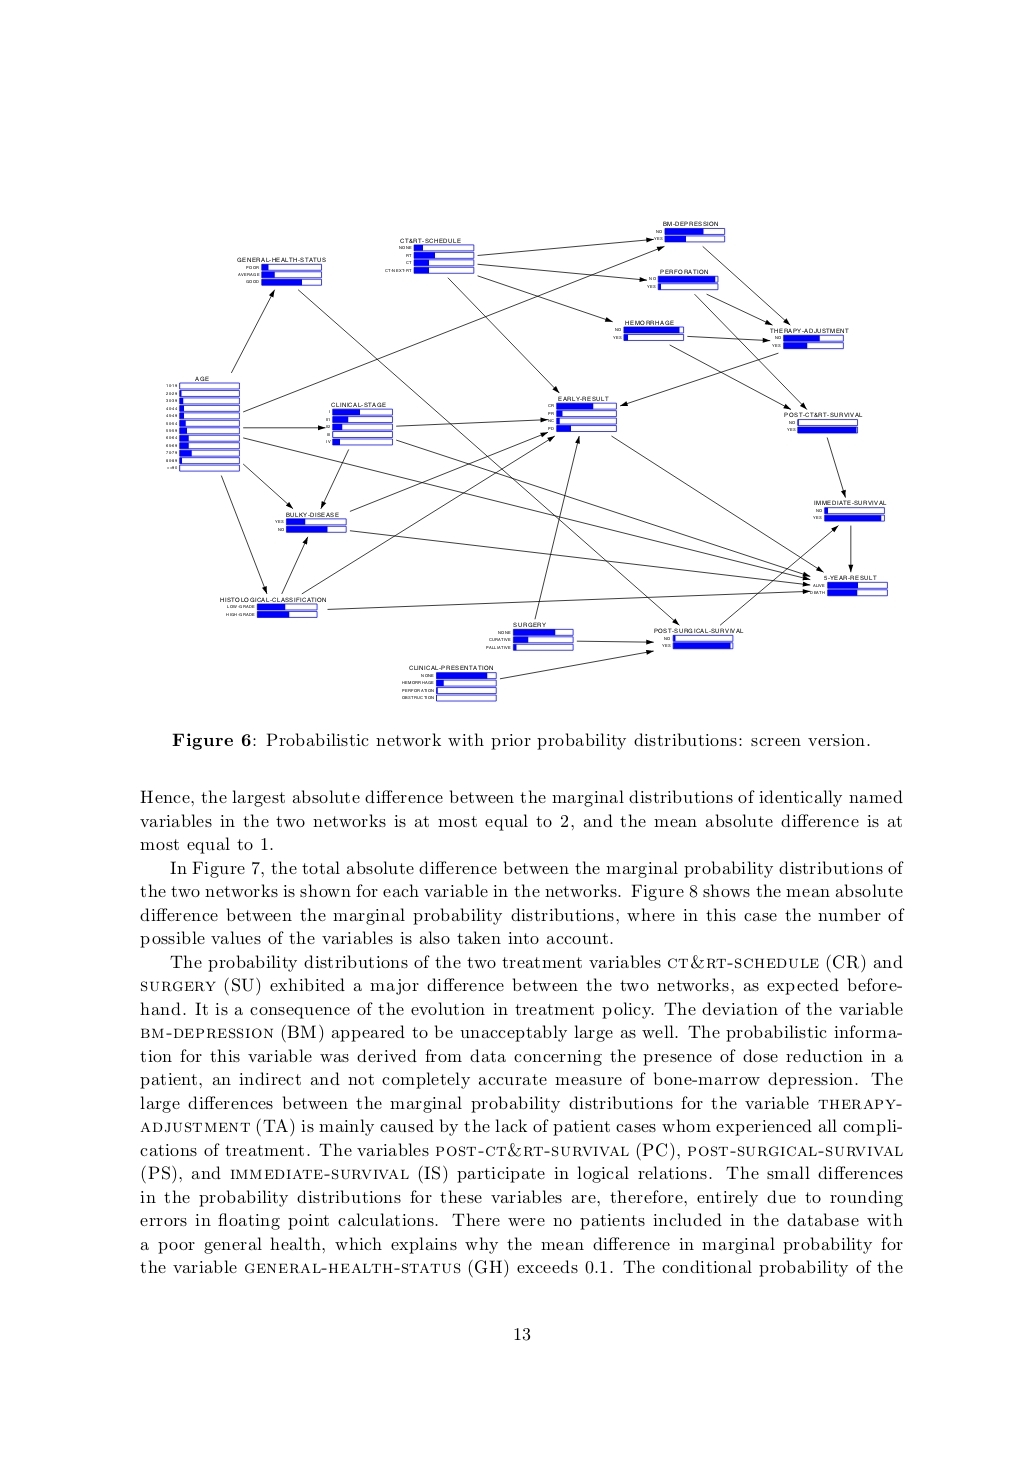figure: (166, 220, 887, 702)
